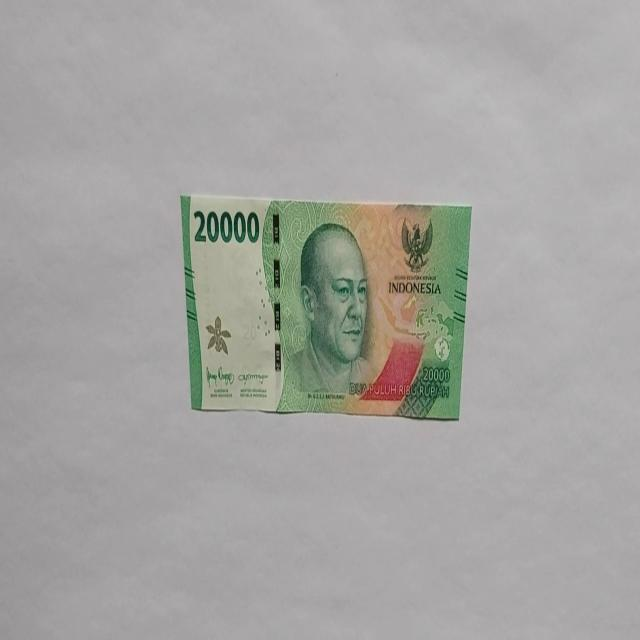dua puluh ribu rupiah: (180, 192, 472, 420), (276, 220, 378, 412)
